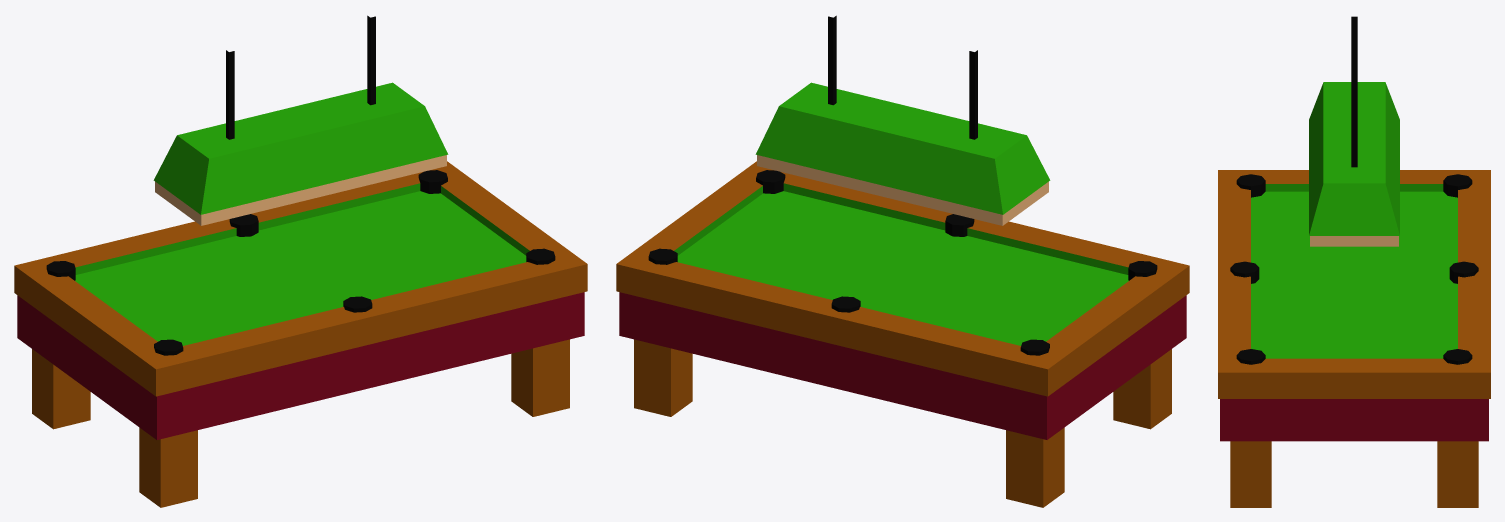
File: table.glb
3 renders of one model, left to right at view 1: azimuth 30°, elevation 25°; view 2: azimuth 150°, elevation 25°; view 3: azimuth 270°, elevation 25°, orthographic. The views are drawn at different scales.
Parts seen in each view (by area): view 1: Table, Lamp; view 2: Table, Lamp; view 3: Table, Lamp.
Part boxes in pixels (x1,y1,x2,y2): Table: [14, 161, 587, 507]; Lamp: [153, 15, 448, 225]; Table: [616, 161, 1189, 507]; Lamp: [755, 15, 1050, 225]; Table: [1218, 170, 1490, 507]; Lamp: [1309, 16, 1399, 246].
Size of the model in its own units: 2.32 by 1.94 by 1.32.
